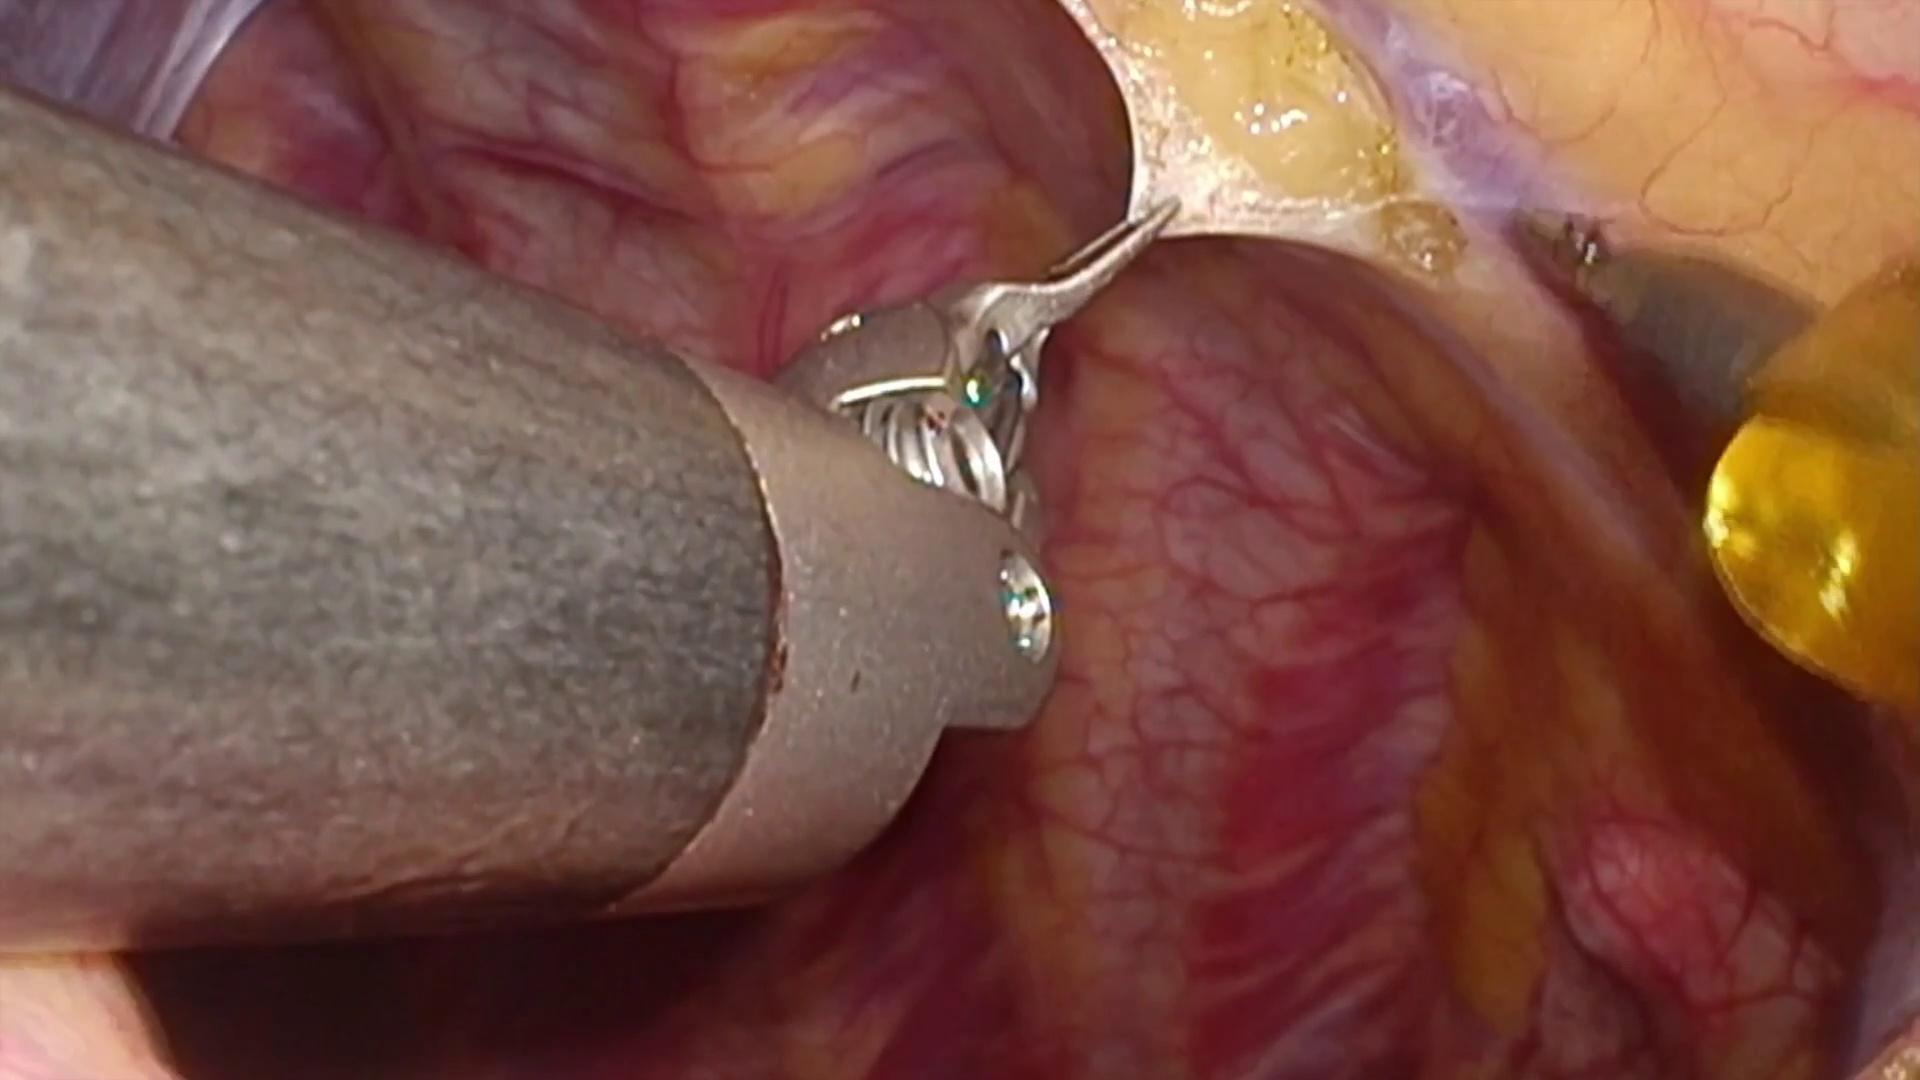Cautery_Spatula: (1502, 198, 1829, 417), (1501, 196, 1629, 320)
Debakey: (942, 194, 1183, 394)
